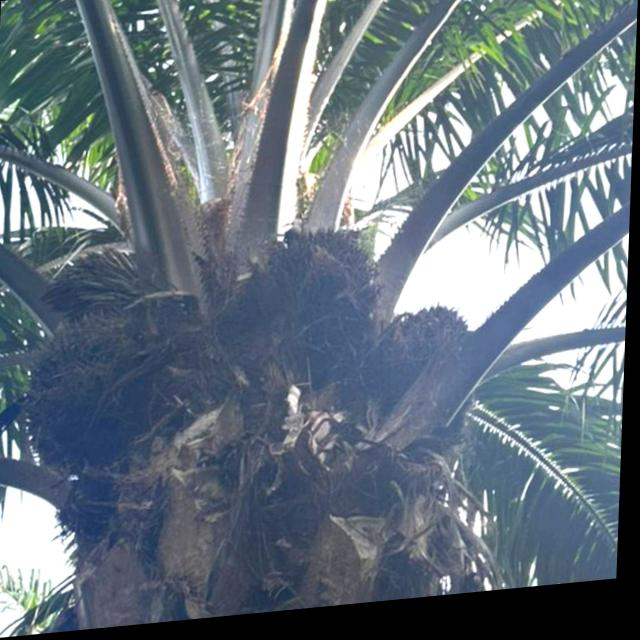unripe: (244, 217, 393, 380), (377, 301, 480, 412)
